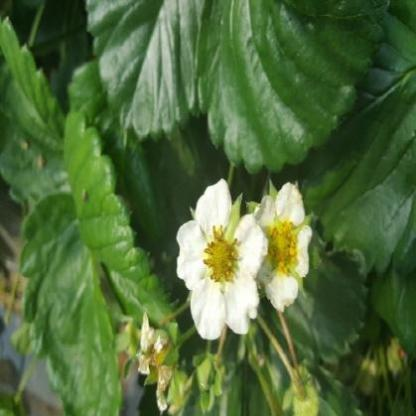Strawberry_Blossom_Blight: (200, 222, 241, 286), (264, 220, 300, 278)
